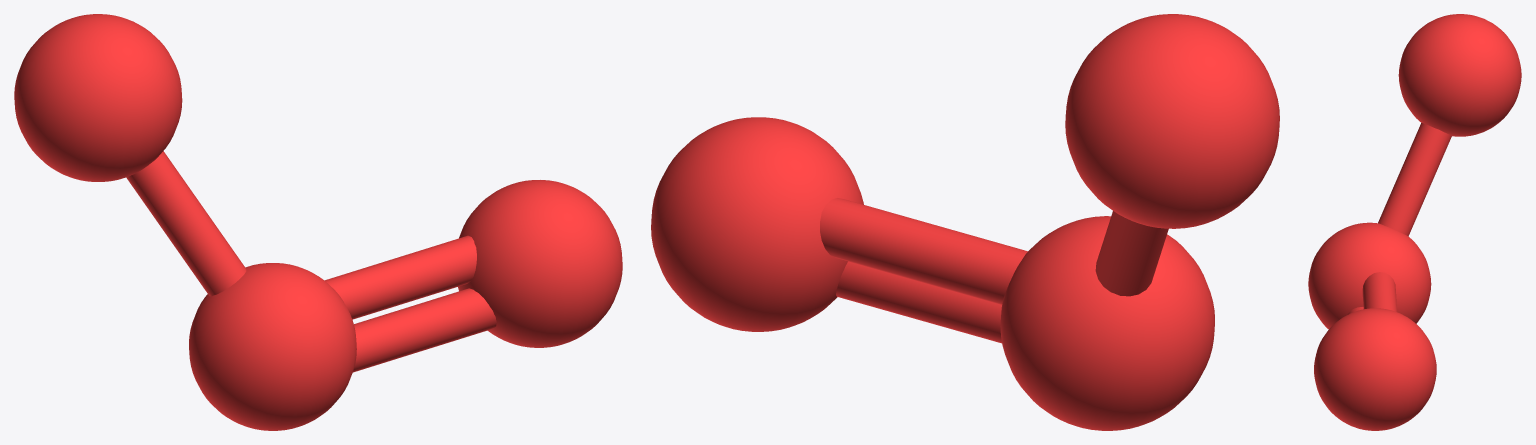
File: Ozone.fbx
3 renders of one model, left to right at view 1: azimuth 30°, elevation 25°; view 2: azimuth 150°, elevation 25°; view 3: azimuth 270°, elevation 25°, orthographic. The views are drawn at different scales.
Visible parts, largest first — view 1: Oxygen_sticks_cylinder.014; view 2: Oxygen_sticks_cylinder.014; view 3: Oxygen_sticks_cylinder.014.
Part boxes in pixels (left/top/right/bottom): Oxygen_sticks_cylinder.014: left=14, top=14, right=622, bottom=430; Oxygen_sticks_cylinder.014: left=651, top=14, right=1279, bottom=430; Oxygen_sticks_cylinder.014: left=1308, top=14, right=1521, bottom=430.
Size of the model in its own units: 264 by 184 by 127.
